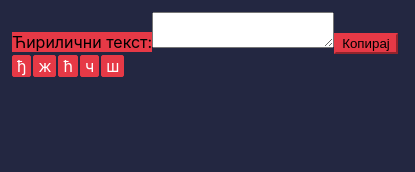
Test case: Cyrillic › Letter Insertion › should replace selected text with an inserted letter
The width and height of the screenshot is (415, 172).
Type "тест" into the text box named "cyrillic text input" at (243, 30), box [152,12,334,48]
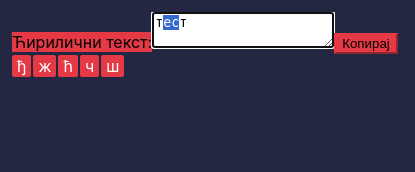
Click the button named "Insert Cyrillic letter ж" at (45, 66), box [34,55,56,77]
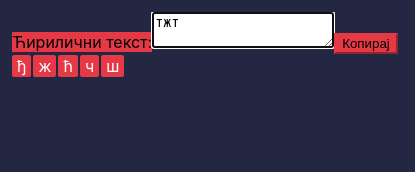
Now the text box named "cyrillic text input" holds "тжт", box [152,12,334,48]
